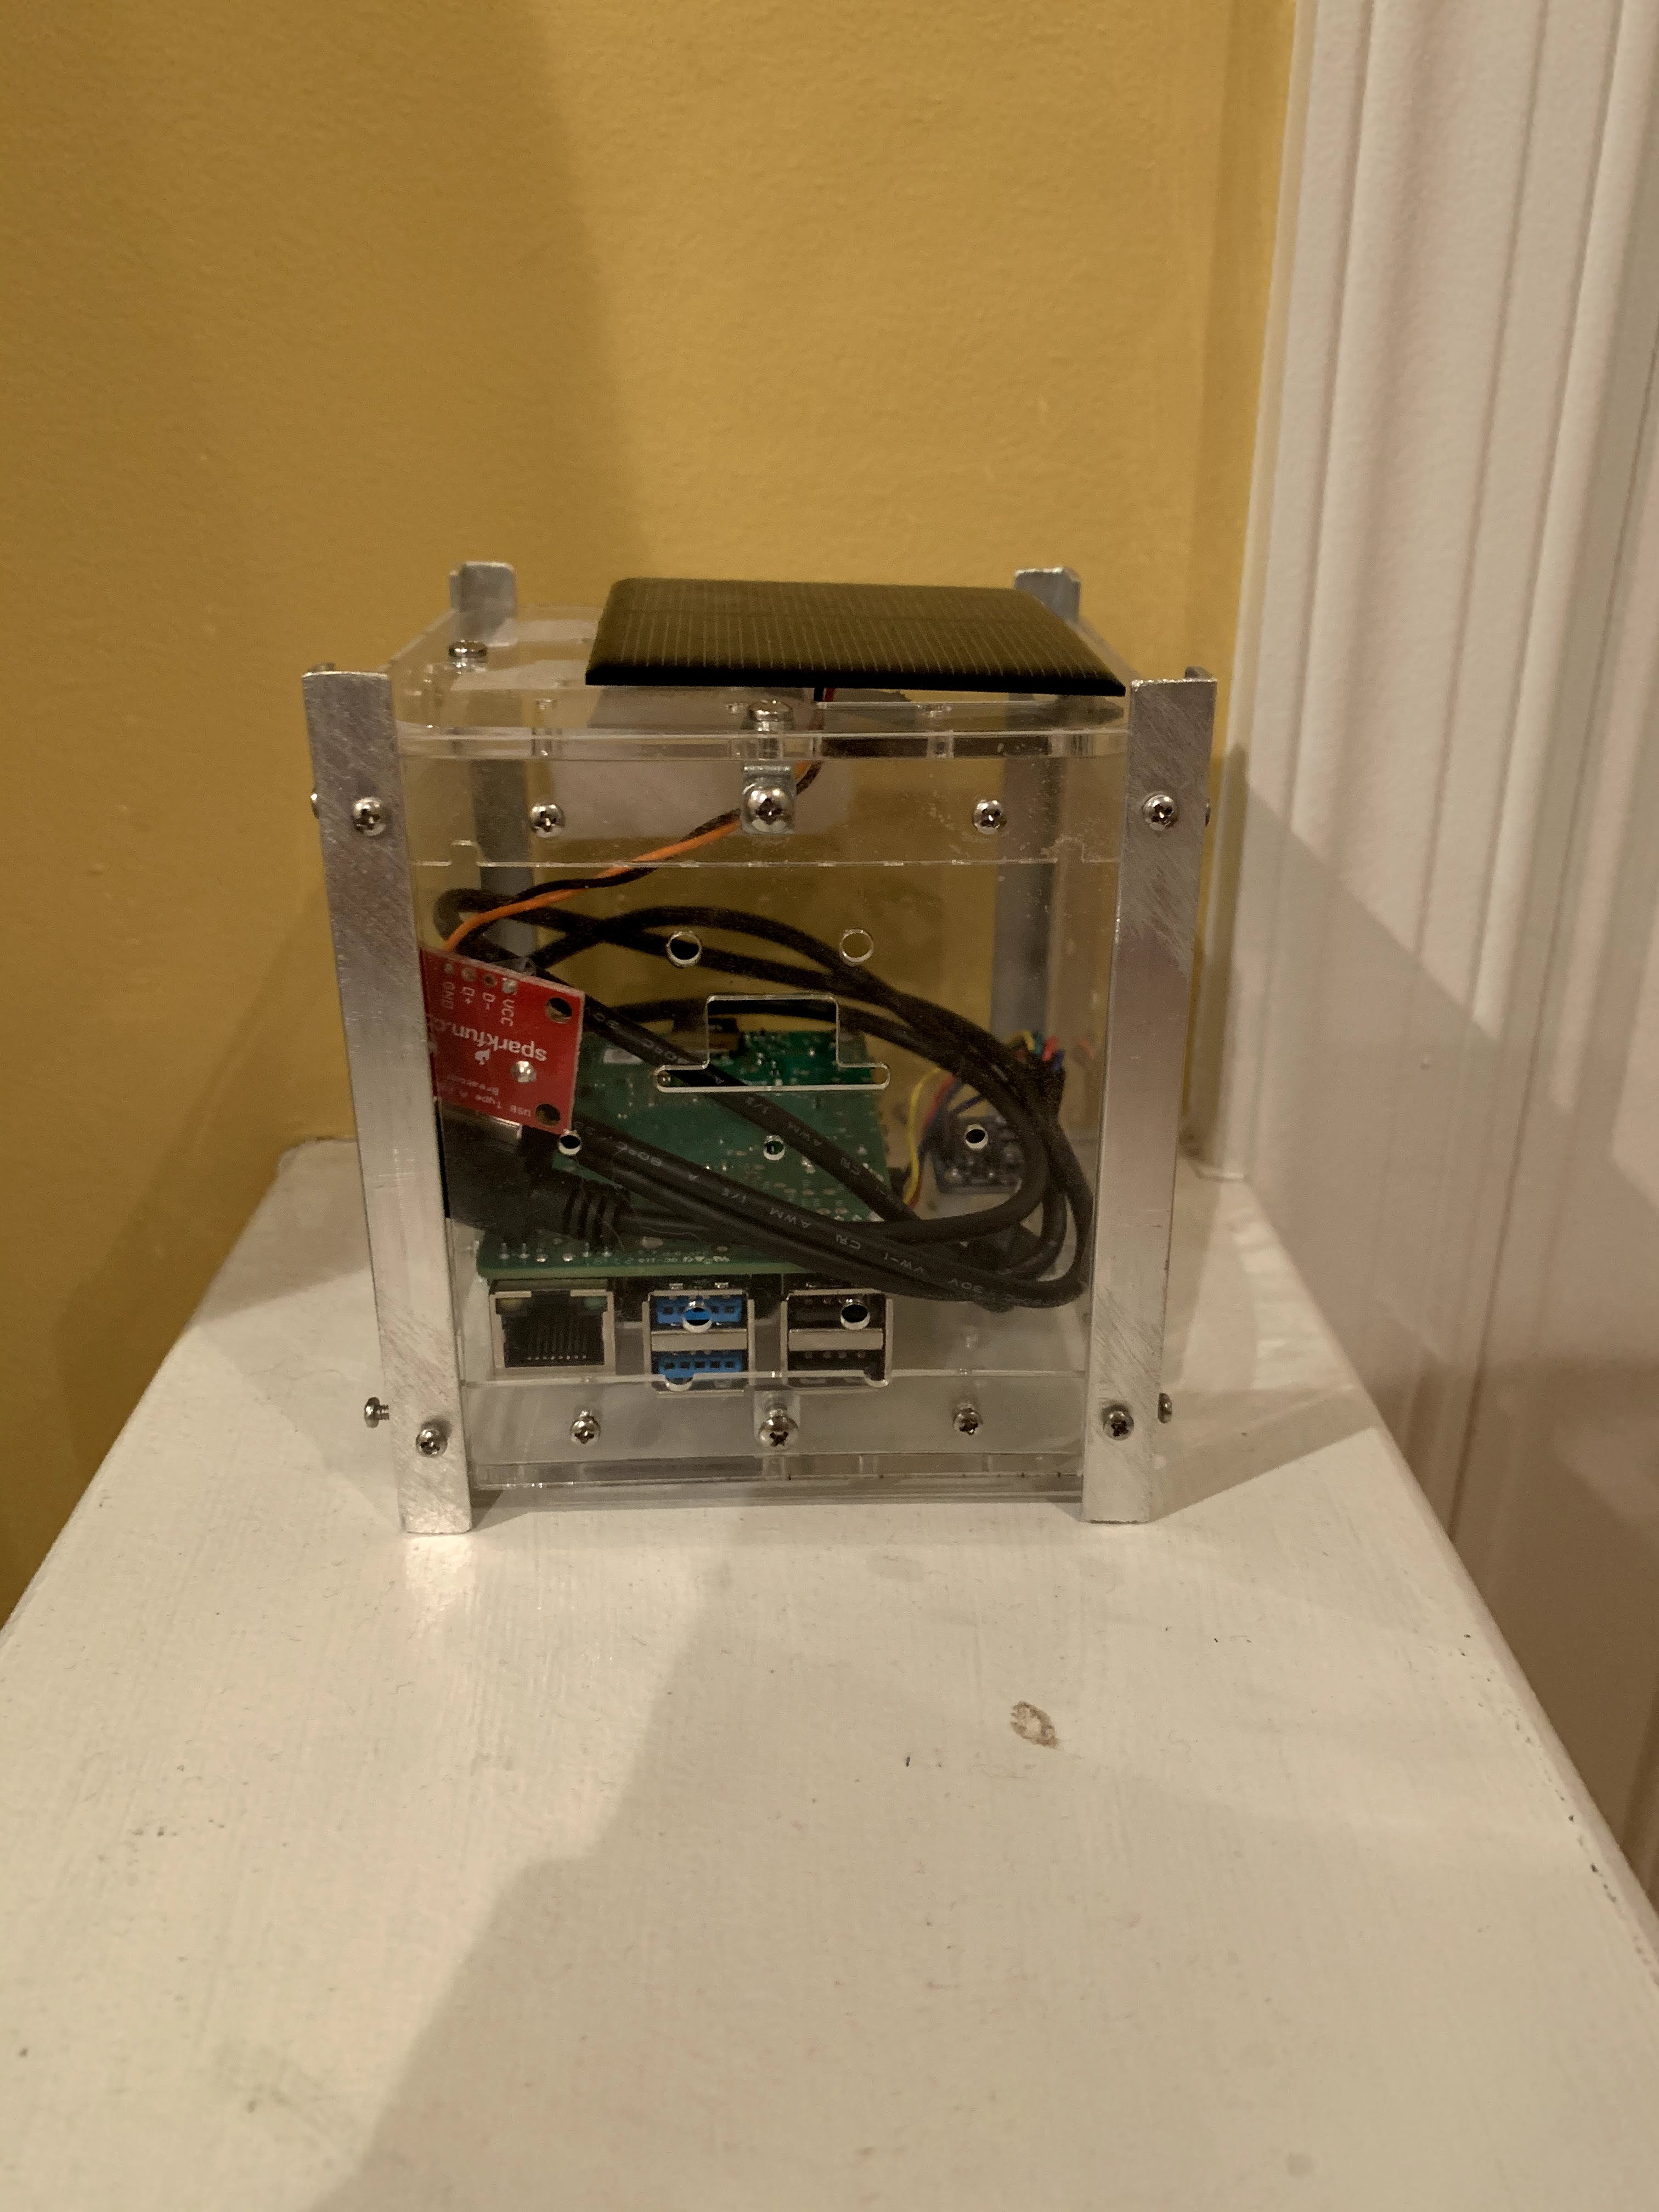Space-debris-cubesat: (263, 482, 1260, 1571)
